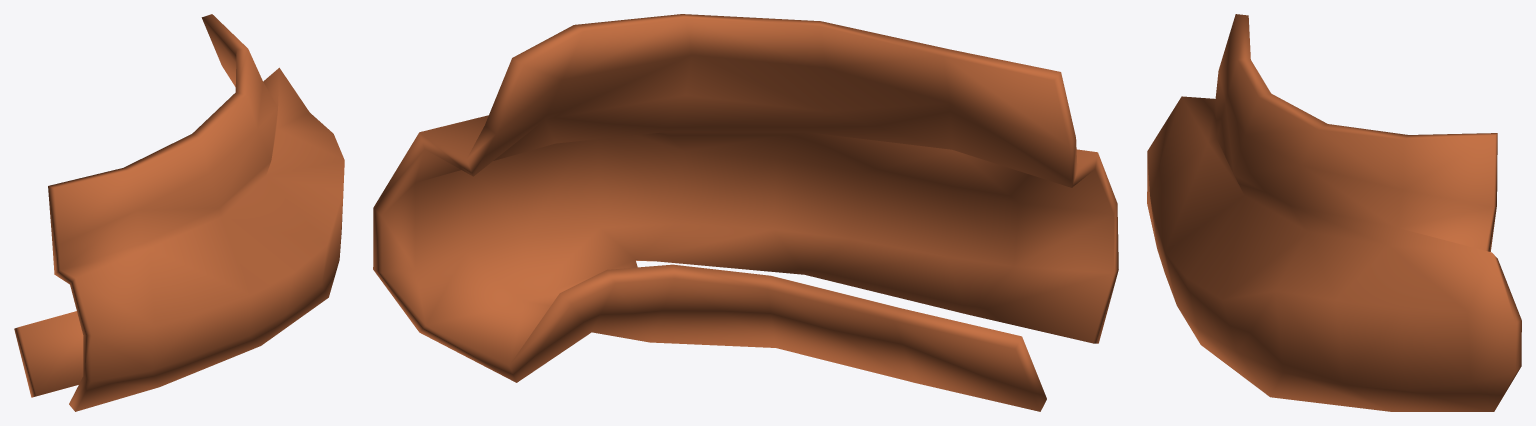
The model's file is Armor_Tasset_L.fbx.
3 views of the same model, side by side, from view 1: azimuth 30°, elevation 25°; view 2: azimuth 150°, elevation 25°; view 3: azimuth 270°, elevation 25° (orthographic). The views are drawn at different scales.
Parts seen in each view (by area): view 1: Armor_Tasset_L; view 2: Armor_Tasset_L; view 3: Armor_Tasset_L.
Part boxes in pixels (left/top/right/bottom): Armor_Tasset_L: left=14, top=14, right=344, bottom=411; Armor_Tasset_L: left=373, top=14, right=1118, bottom=411; Armor_Tasset_L: left=1147, top=14, right=1521, bottom=411.
Bounding box in the file's own units: 0.2189 × 0.1433 × 0.1699.
